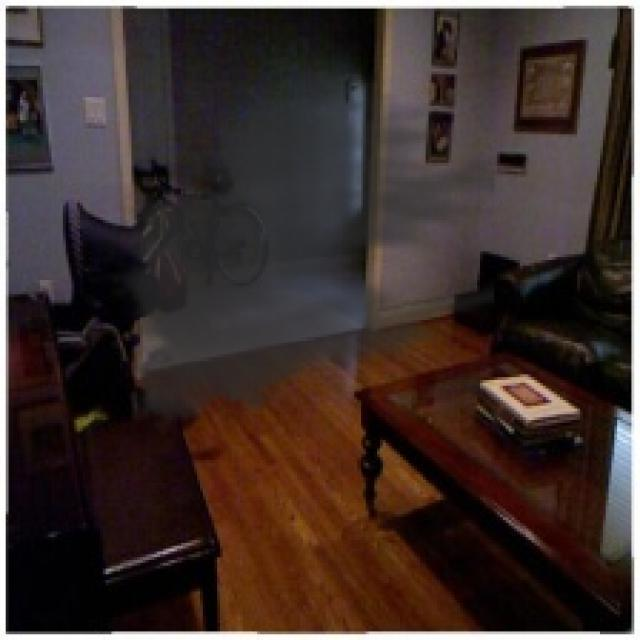Smoke: (100, 57, 494, 440)
